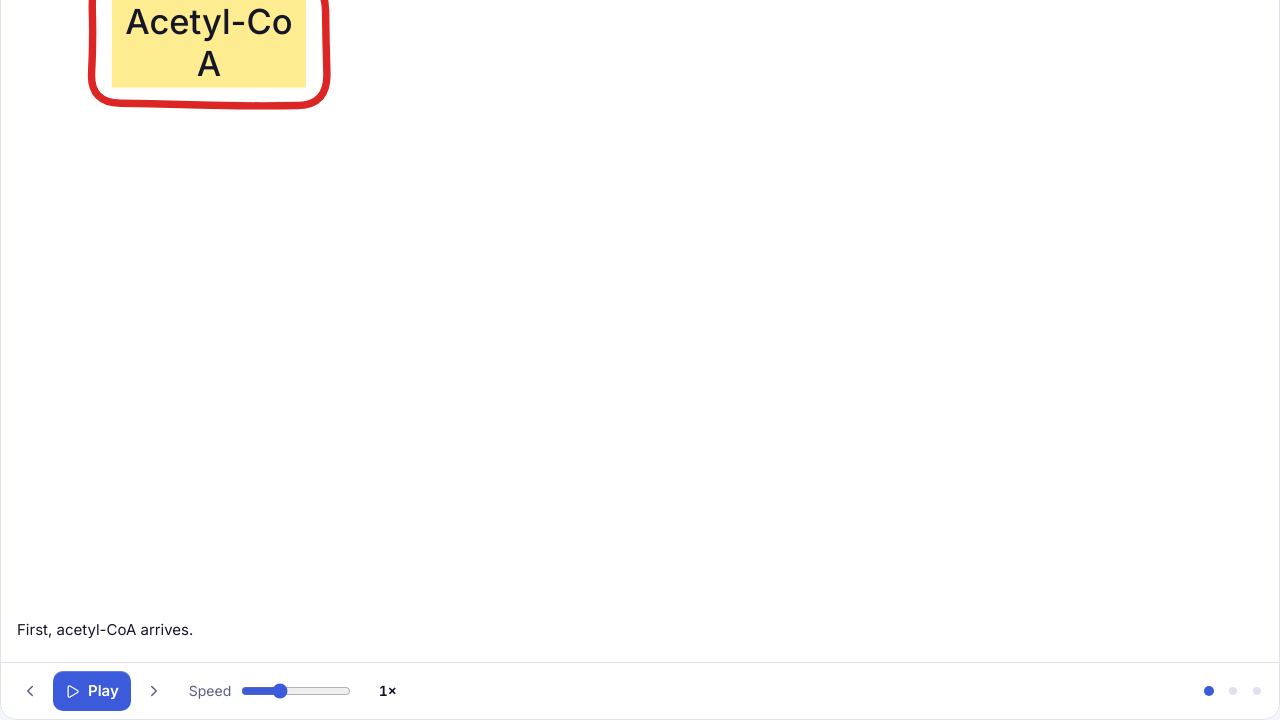
the lesson player › pauses and resumes
(page scrolled)
Click the button "Play" at x=92, y=691, box [53,671,131,711]
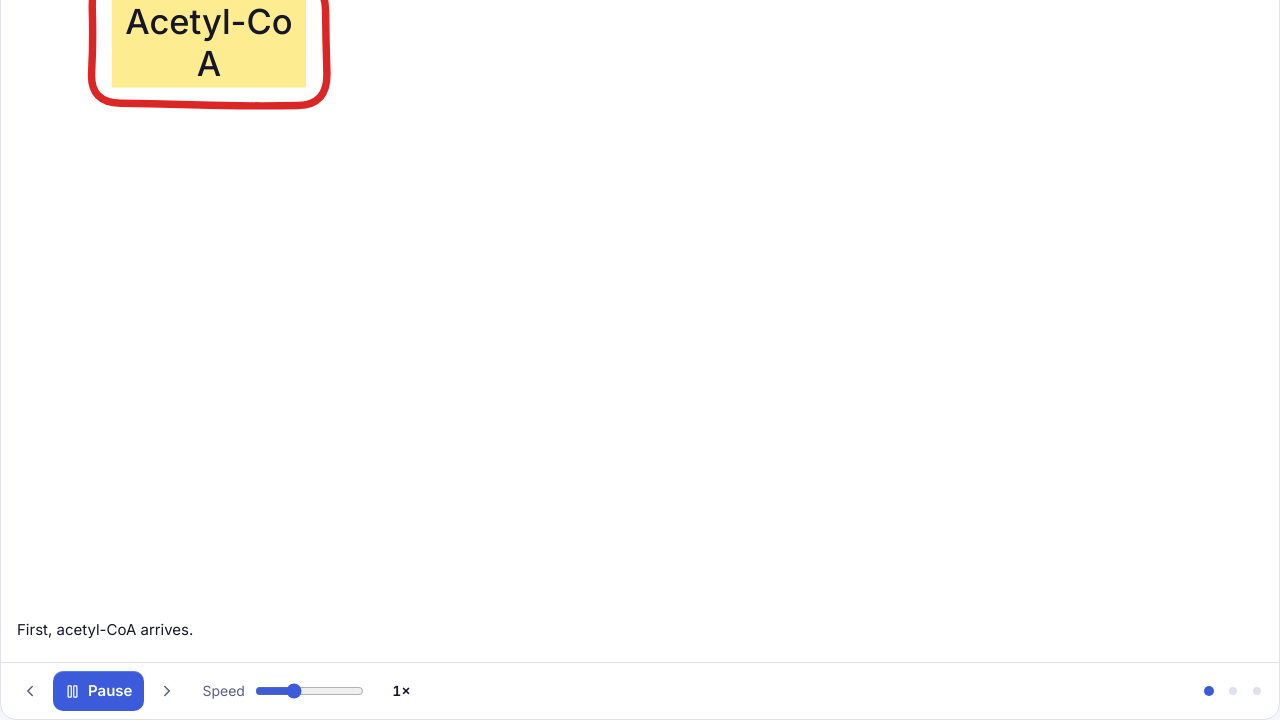
Click the button "Pause" at x=99, y=691, box [53,671,144,711]
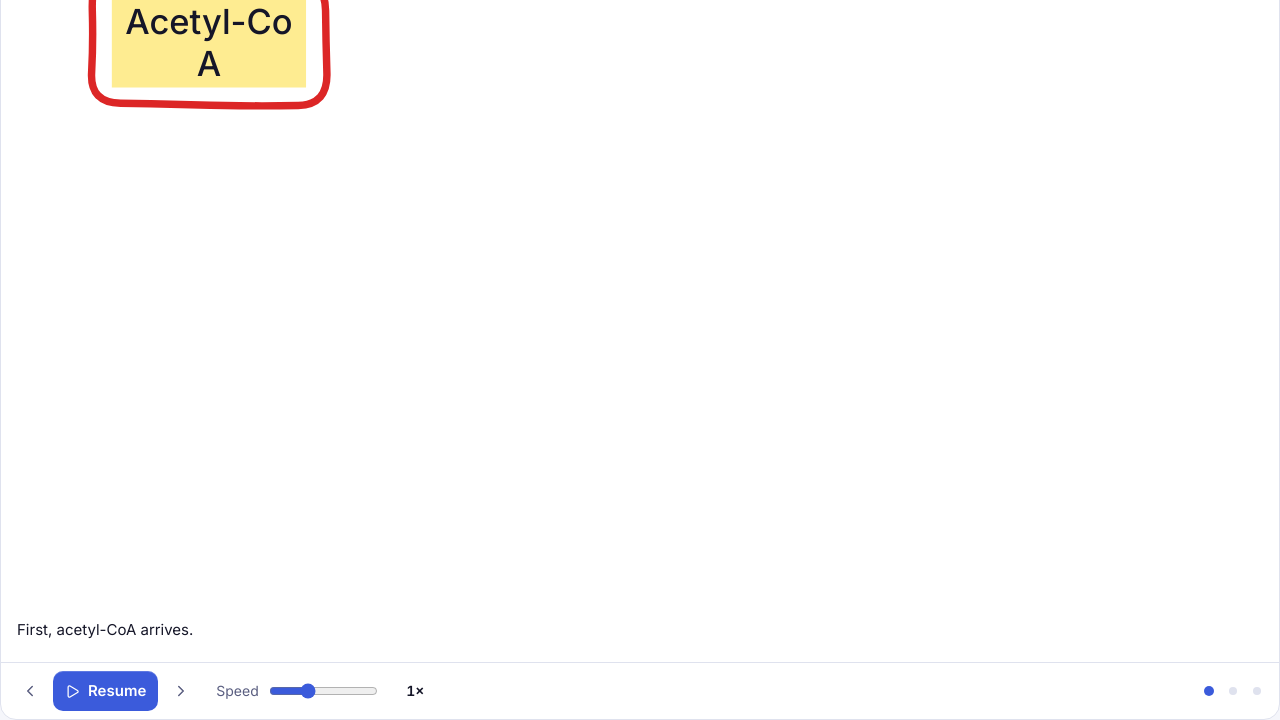
Expected: the button "Resume" is shown, [53,671,158,711]
